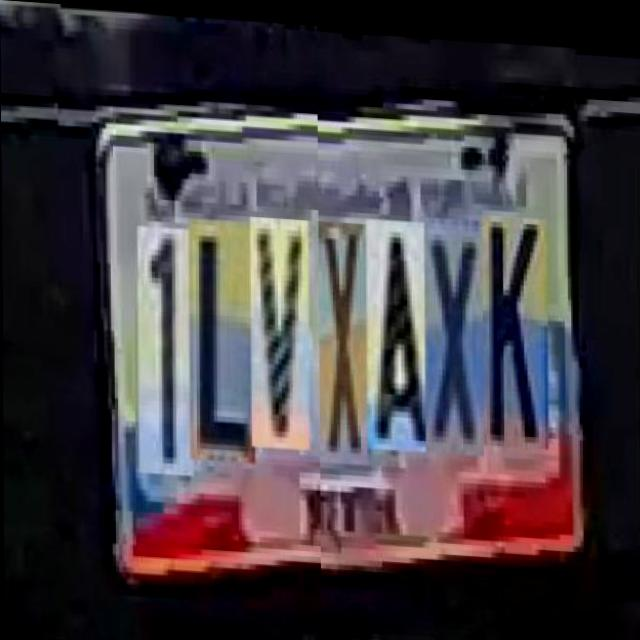1: (137, 225, 193, 473)
a: (366, 208, 432, 440)
k: (481, 203, 548, 436)
l: (187, 216, 255, 460)
v: (249, 214, 309, 447)
x: (423, 206, 483, 444), (318, 212, 369, 455)
